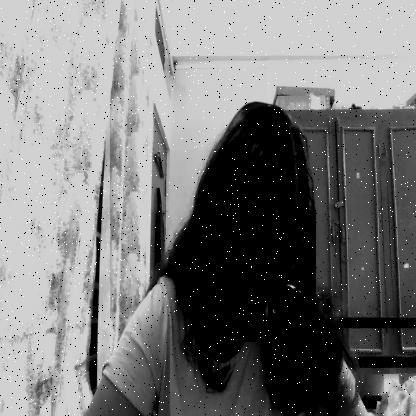Distracted: (230, 210, 316, 342)
